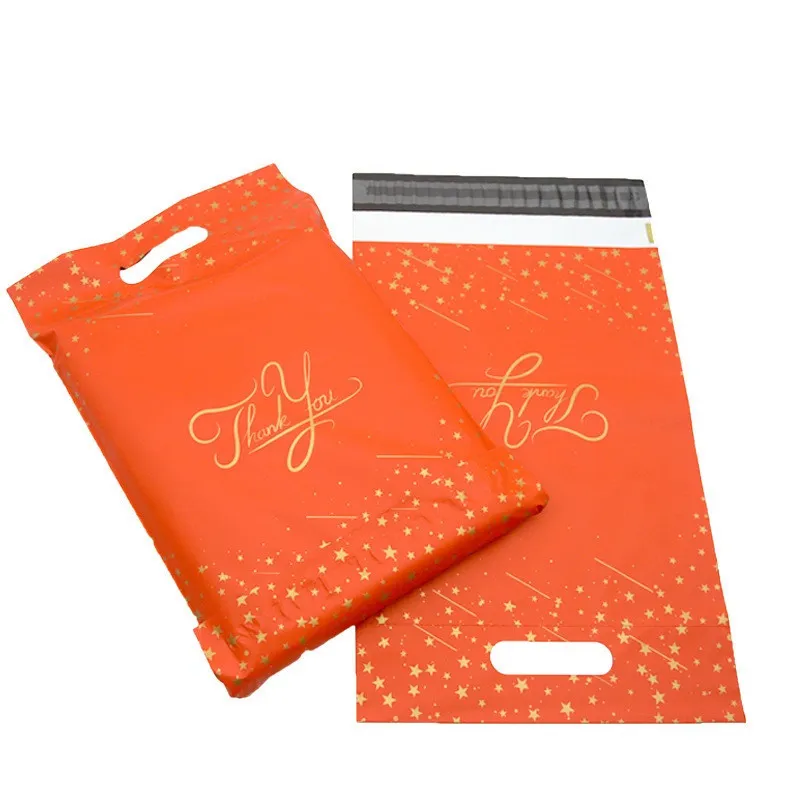塑料袋: (9, 166, 519, 690), (352, 175, 745, 723)
